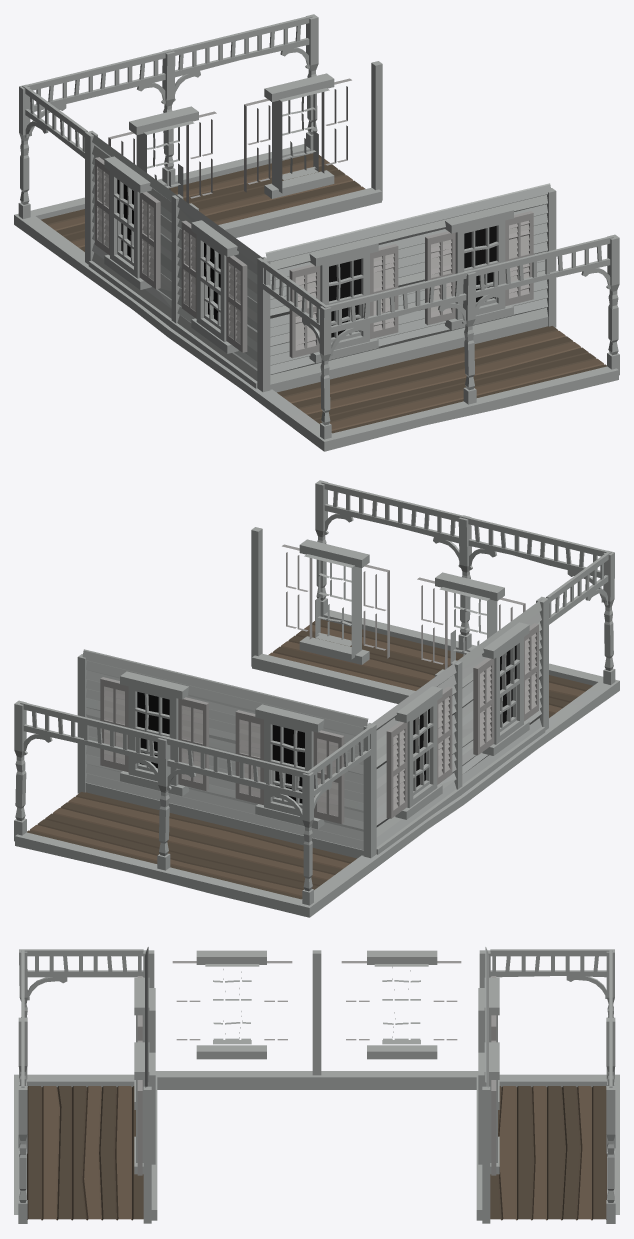
Rendered from SM_Bld_Mansion_End_01.glb.
3 renders of one model, top to bottom at view 1: azimuth 30°, elevation 25°; view 2: azimuth 150°, elevation 25°; view 3: azimuth 270°, elevation 25°, orthographic. The views are drawn at different scales.
Visible parts, largest first — view 1: SM_Bld_Mansion_End_01; view 2: SM_Bld_Mansion_End_01; view 3: SM_Bld_Mansion_End_01.
Boxes of the visible parts, box(x1,y1,x2,y2) form: SM_Bld_Mansion_End_01: box(14, 14, 619, 451); SM_Bld_Mansion_End_01: box(14, 480, 619, 917); SM_Bld_Mansion_End_01: box(14, 947, 619, 1223).
Size of the model in its own units: 0.0627 by 0.029 by 0.1118.
